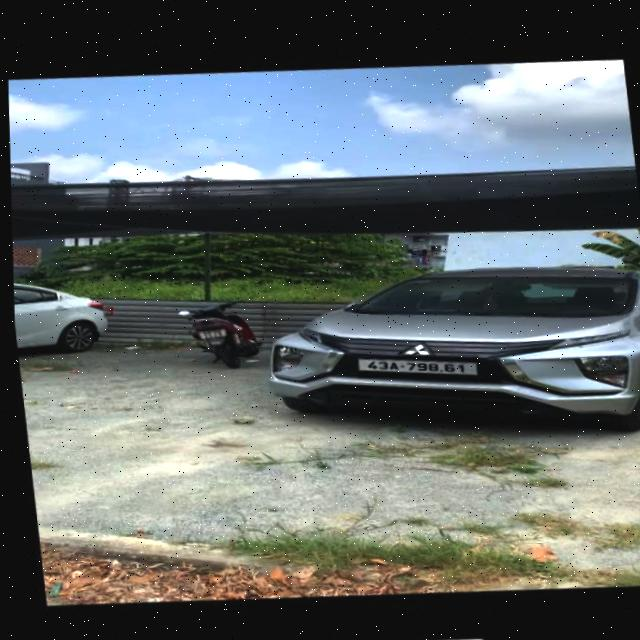car: (264, 226, 640, 436), (12, 273, 111, 367)
motorcycle: (181, 312, 261, 370)
plate: (351, 345, 482, 387)
